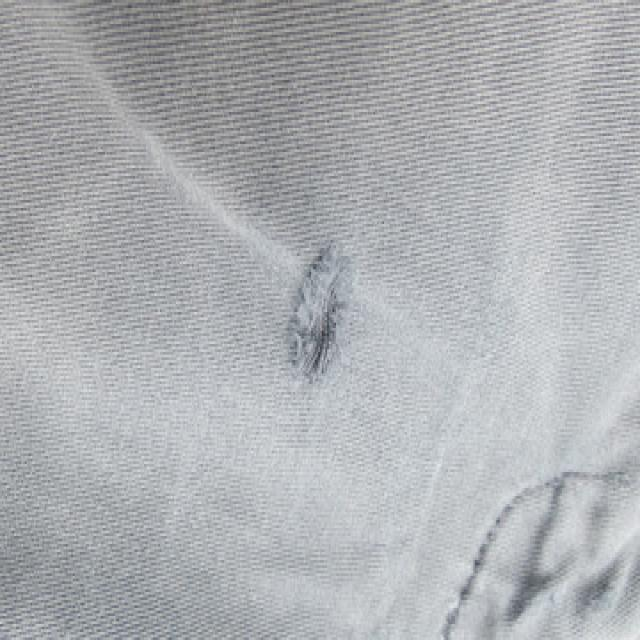other: (265, 216, 404, 420)
